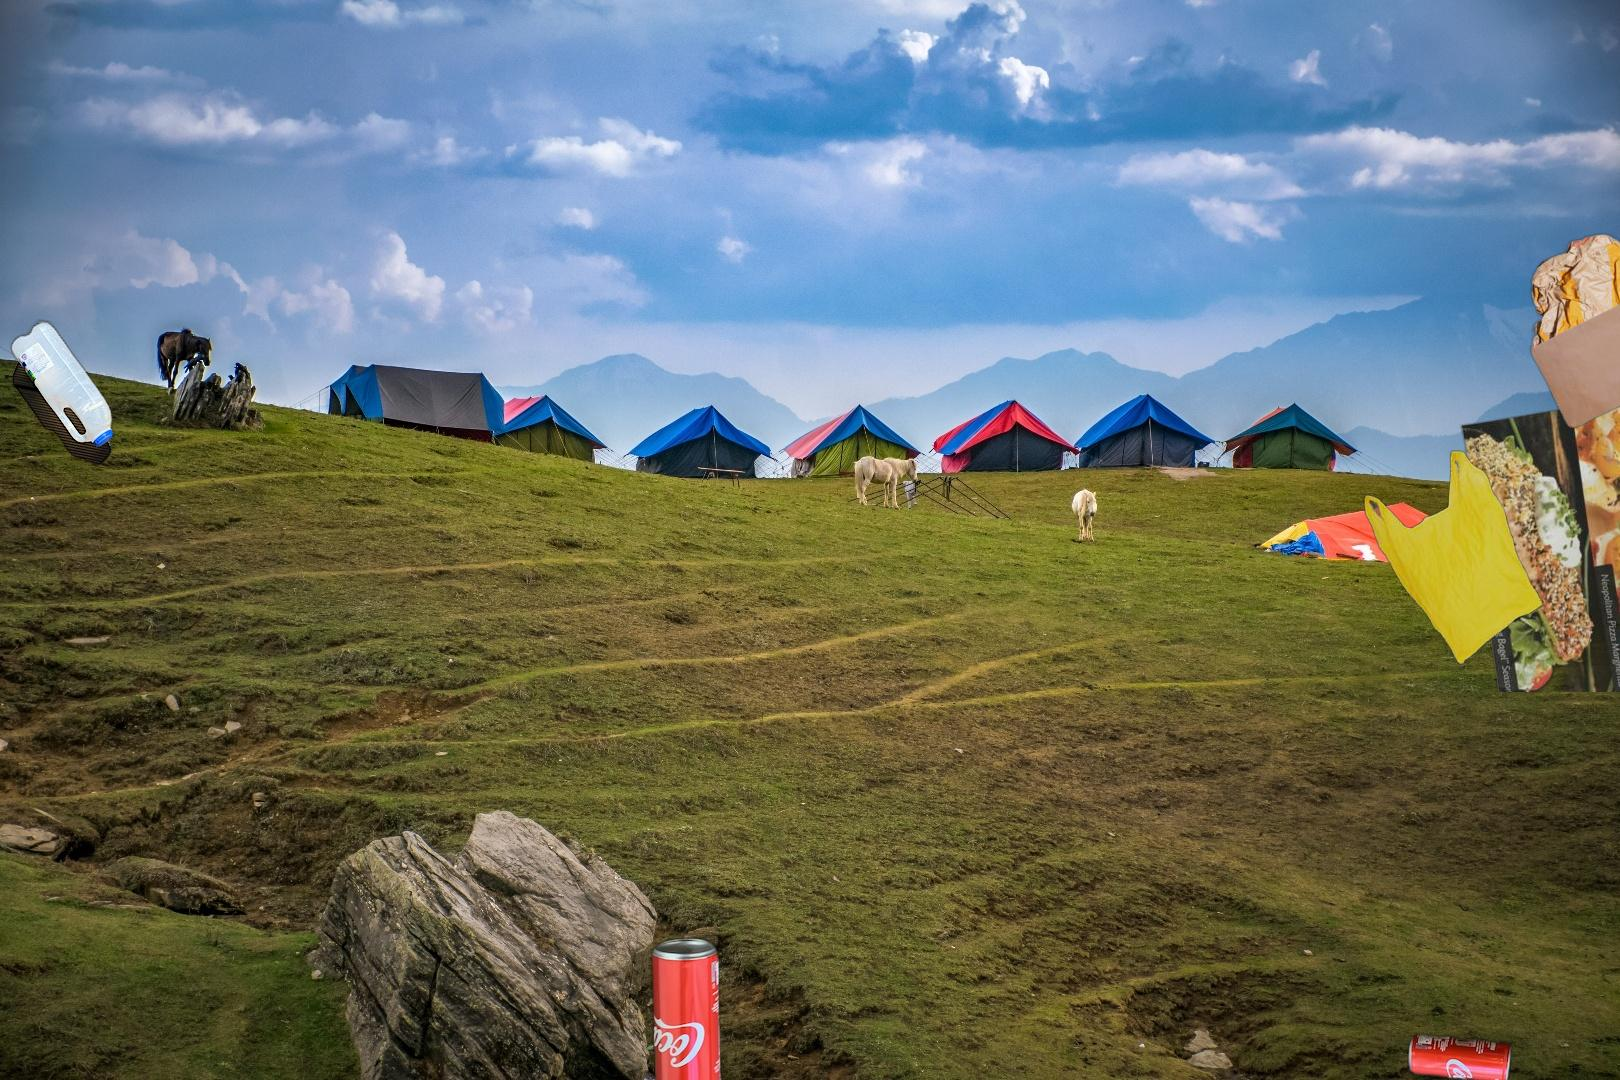metal-cans: (647, 580, 855, 1080), (1404, 1027, 1516, 1080)
paper: (1457, 376, 1620, 692)
paper-bag: (1528, 231, 1620, 432)
plastic-bag: (1362, 448, 1544, 667)
plastic-bottles: (7, 315, 118, 471)
